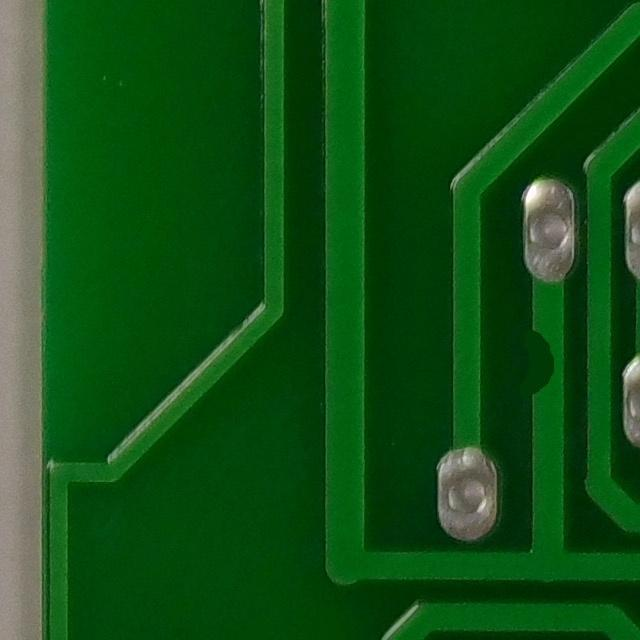mouse_bite: (511, 319, 573, 408)
